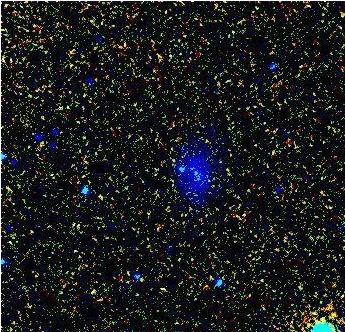star: (163, 154, 193, 184)
